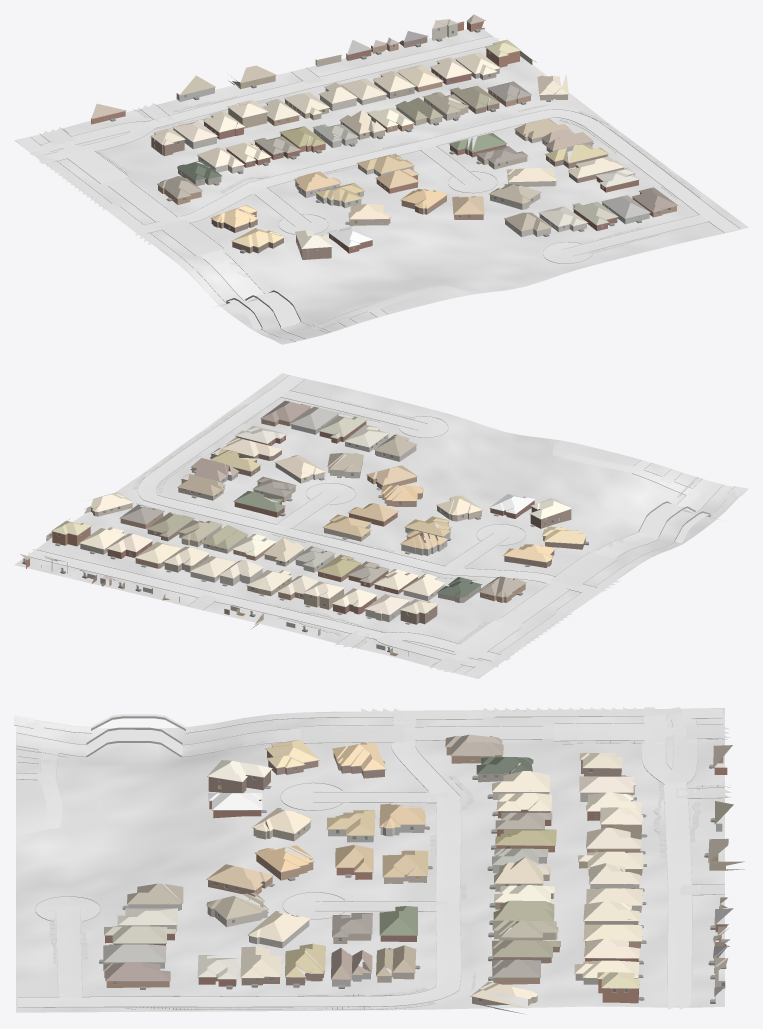
3 views of the same model, one above another, from view 1: azimuth 30°, elevation 25°; view 2: azimuth 150°, elevation 25°; view 3: azimuth 270°, elevation 25° (orthographic). The views are drawn at different scales.
Parts seen in each view (by area): view 1: ground, roof, concrete, wall, asphalt, curb, detail, wall_stucco, walk, wall_stone; view 2: ground, roof, concrete, asphalt, wall, curb, detail, wall_stucco, walk, wall_stone; view 3: ground, roof, concrete, asphalt, wall, curb, detail, wall_stucco, walk, wall_stone, bridge, mark_w (+1 smaller).
Boxes of the visible parts, <box> form: ground: <box>14,29,748,341</box>; roof: <box>91,14,677,248</box>; concrete: <box>27,37,739,332</box>; wall: <box>91,21,676,259</box>; asphalt: <box>17,127,326,344</box>; curb: <box>30,35,739,341</box>; detail: <box>91,20,678,256</box>; wall_stucco: <box>173,24,649,225</box>; walk: <box>63,95,701,331</box>; wall_stone: <box>295,129,586,237</box>; ground: <box>14,373,739,678</box>; roof: <box>20,400,586,649</box>; concrete: <box>28,375,701,670</box>; asphalt: <box>430,479,748,677</box>; wall: <box>26,407,585,656</box>; curb: <box>31,375,734,673</box>; detail: <box>22,406,588,652</box>; wall_stucco: <box>51,414,481,635</box>; walk: <box>133,401,697,666</box>; wall_stone: <box>295,429,447,572</box>; ground: <box>16,708,724,1012</box>; roof: <box>103,734,733,1008</box>; concrete: <box>16,707,731,1009</box>; asphalt: <box>14,707,729,756</box>; wall: <box>104,746,744,1003</box>; curb: <box>14,714,730,1009</box>; detail: <box>99,745,728,1006</box>; wall_stucco: <box>104,786,725,1013</box>; walk: <box>16,738,724,1009</box>; wall_stone: <box>118,825,546,931</box>; bridge: <box>86,716,185,756</box>; mark_w: <box>16,709,712,994</box>.
Bounding box in the file's own units: 264 × 19.61 × 259.
